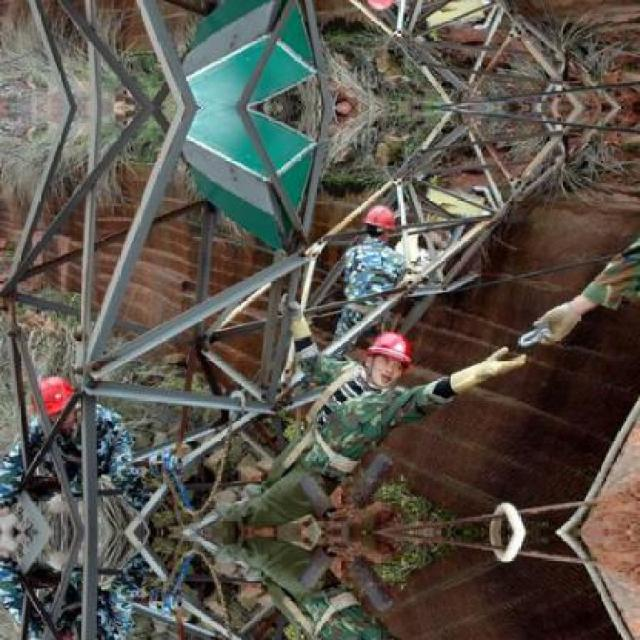helmet: (360, 330, 412, 384), (40, 373, 77, 424), (364, 202, 402, 238), (363, 0, 403, 11)
